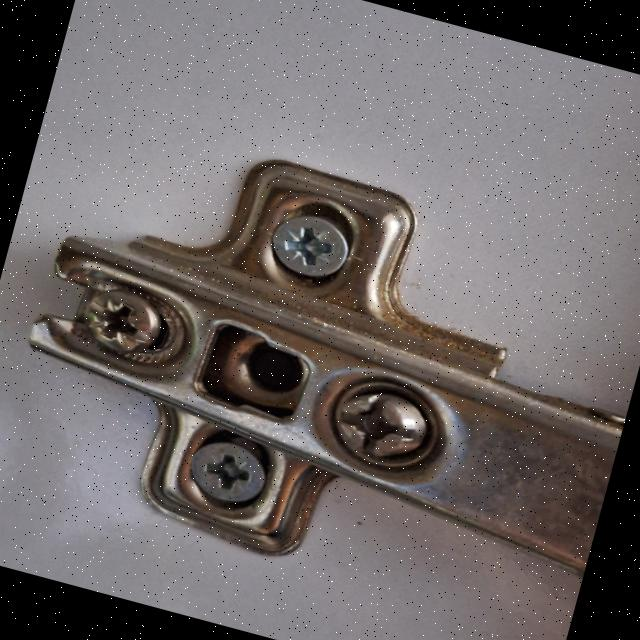Phillips: (315, 373, 436, 482)
Pozidriv: (68, 280, 172, 372), (175, 431, 274, 518), (268, 210, 352, 289)
